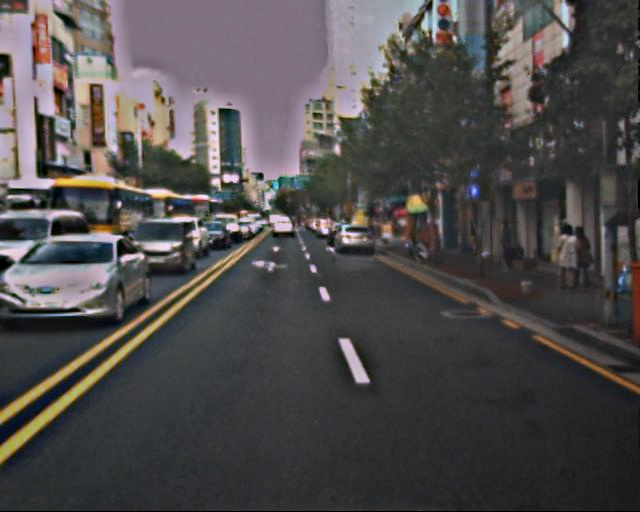person: (563, 222, 591, 290), (552, 224, 578, 287), (495, 221, 517, 274), (465, 217, 485, 265)
